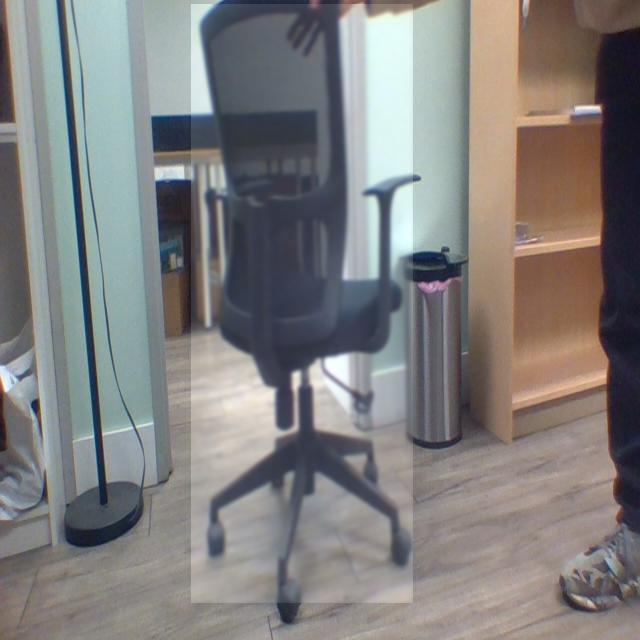chair: (190, 4, 414, 604)
